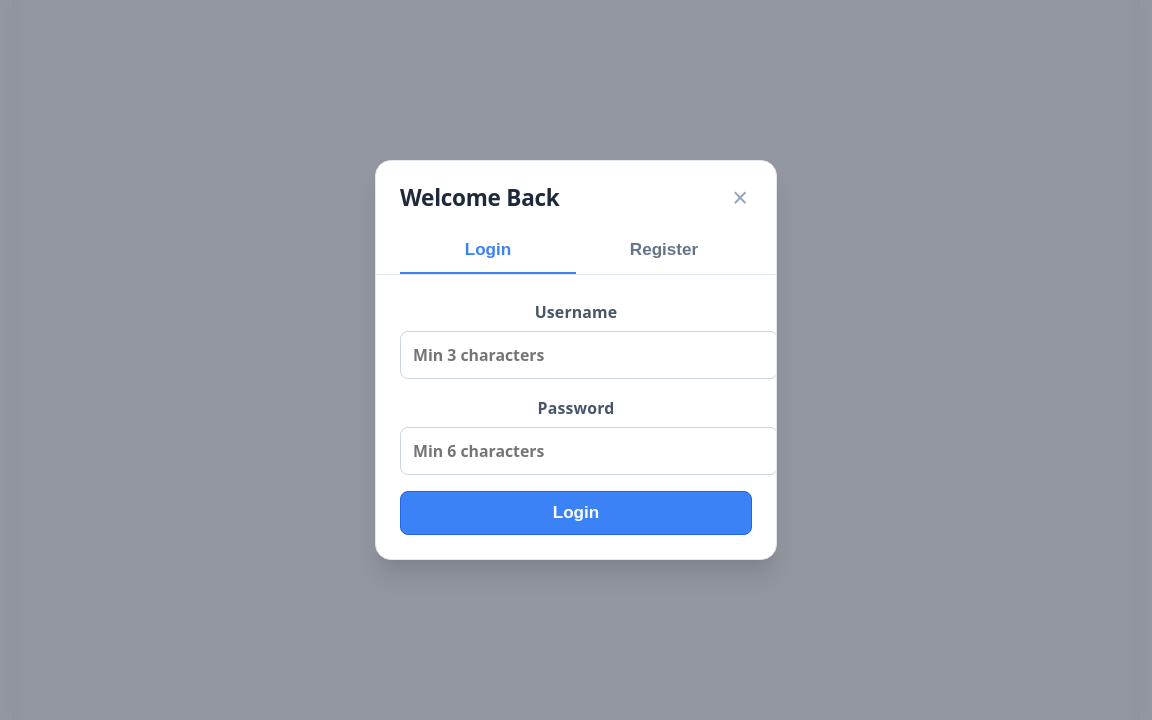
Test: AuthModal.vue › switches between Login and Register tabs
expect the heading with id "modal-title" reads "Welcome Back": met, box left=400, top=182, right=560, bottom=213
expect the button with test id "submit" reads "Login": met, box left=400, top=491, right=752, bottom=535
Note: Switch to Register tab
Step 1. Click the button with test id "tab-register" → {"x": 664, "y": 251}, box left=576, top=228, right=752, bottom=274
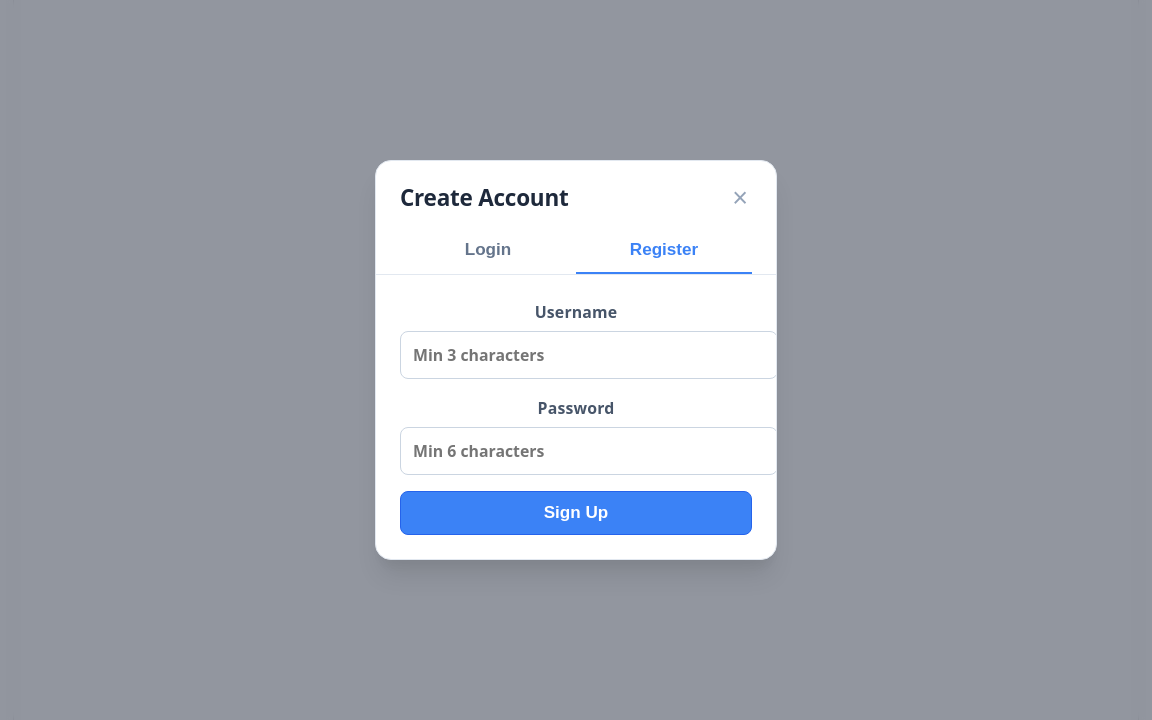
expect the heading with id "modal-title" reads "Create Account": met, box left=400, top=182, right=568, bottom=213
expect the button with test id "submit" reads "Sign Up": met, box left=400, top=491, right=752, bottom=535
Note: Switch back to Login tab
Step 2. Click the button with test id "tab-login" → {"x": 488, "y": 251}, box left=400, top=228, right=576, bottom=274
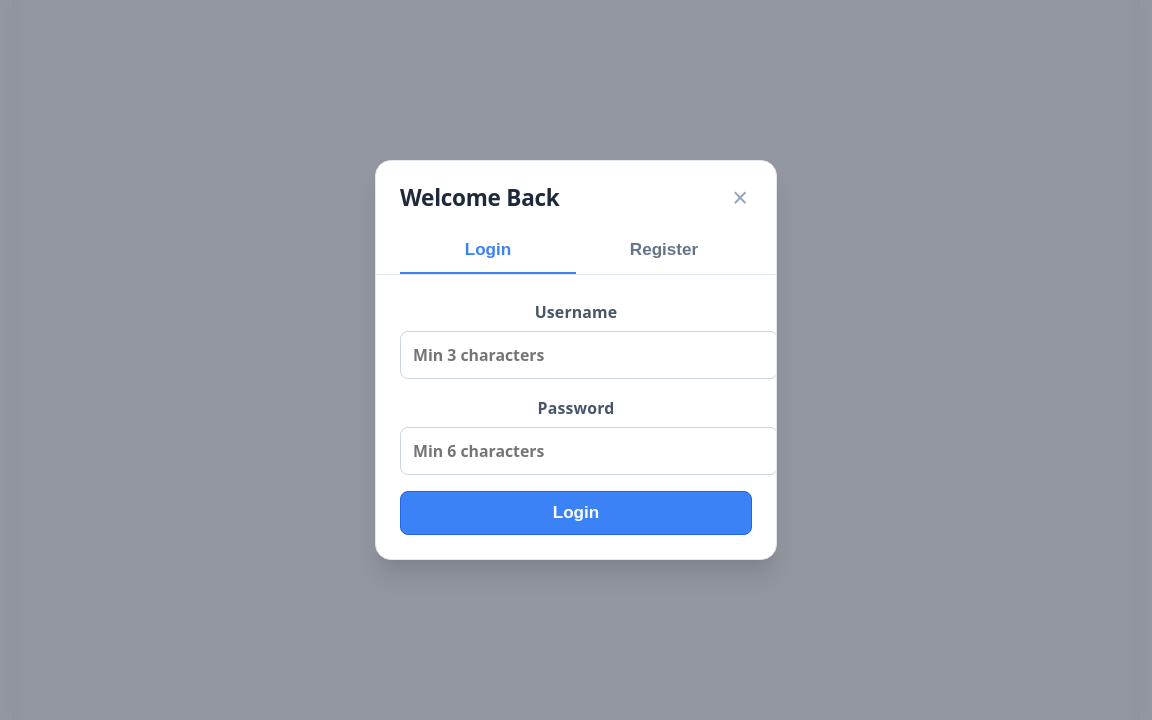
expect the heading with id "modal-title" reads "Welcome Back": met, box left=400, top=182, right=560, bottom=213
expect the button with test id "submit" reads "Login": met, box left=400, top=491, right=752, bottom=535
